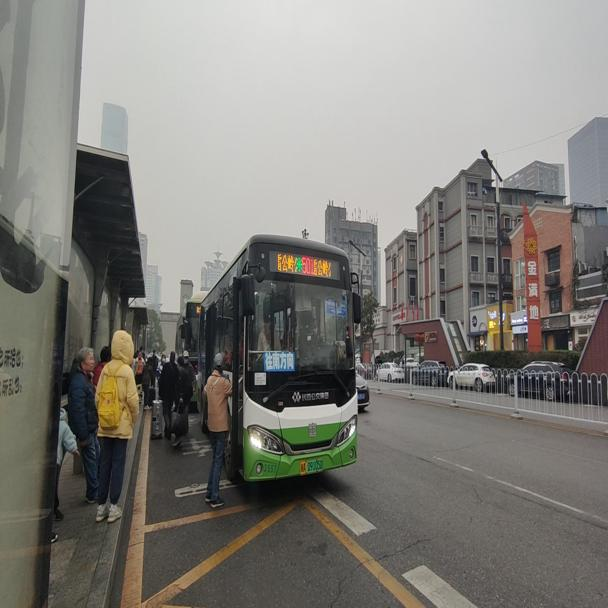bus: (201, 231, 360, 484), (175, 298, 202, 398)
screen: (300, 252, 313, 274)
